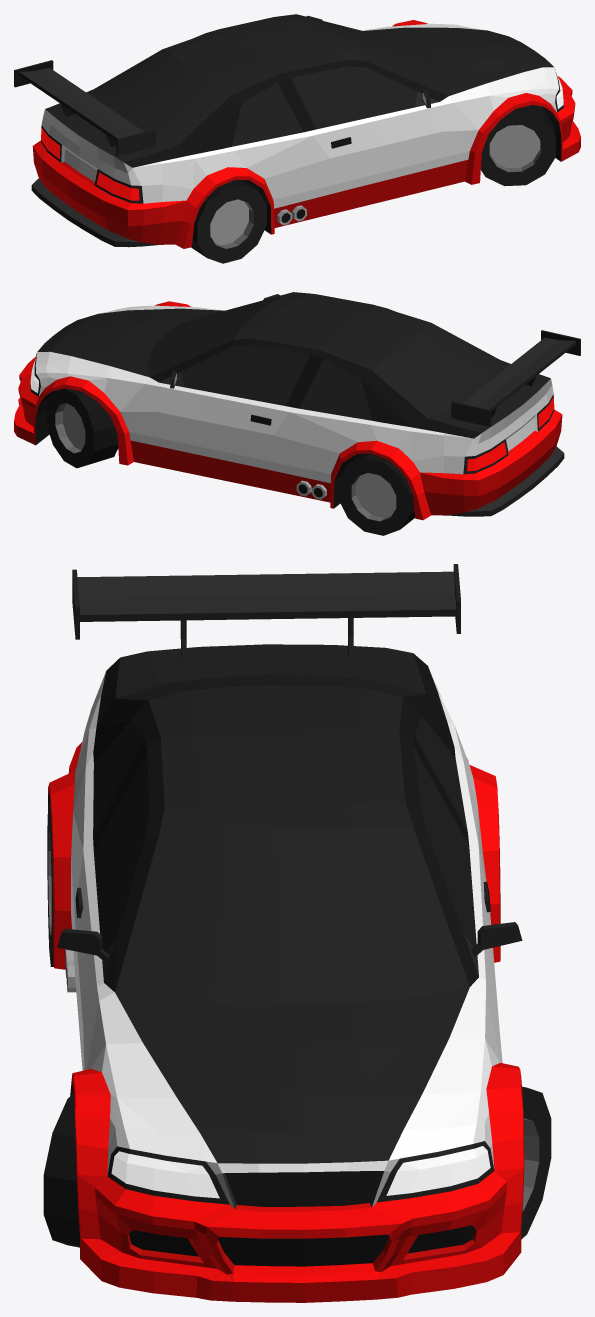
File: RaceCar_022.glb
3 renders of one model, top to bottom at view 1: azimuth 30°, elevation 25°; view 2: azimuth 150°, elevation 25°; view 3: azimuth 270°, elevation 25°, orthographic. The views are drawn at different scales.
Parts seen in each view (by area): view 1: RaceCar_022, wheel_0_RaceCar_022_Wheel_1R, wheel_2_RaceCar_022_Wheel_3R; view 2: RaceCar_022, wheel_3_RaceCar_022_Wheel_4L, wheel_1_RaceCar_022_Wheel_2L; view 3: RaceCar_022, wheel_0_RaceCar_022_Wheel_1R, wheel_1_RaceCar_022_Wheel_2L.
Part boxes in pixels (bbox=[...]): RaceCar_022: bbox=[14, 14, 580, 248]; wheel_0_RaceCar_022_Wheel_1R: bbox=[481, 105, 555, 186]; wheel_2_RaceCar_022_Wheel_3R: bbox=[191, 180, 266, 263]; RaceCar_022: bbox=[14, 292, 580, 520]; wheel_3_RaceCar_022_Wheel_4L: bbox=[338, 453, 414, 535]; wheel_1_RaceCar_022_Wheel_2L: bbox=[46, 388, 118, 468]; RaceCar_022: bbox=[48, 564, 524, 1302]; wheel_0_RaceCar_022_Wheel_1R: bbox=[43, 1094, 79, 1247]; wheel_1_RaceCar_022_Wheel_2L: bbox=[521, 1086, 551, 1239].
Size of the model in its own units: 5.28 by 1.52 by 2.35.
Materials: 3 (3 with a texture image).
